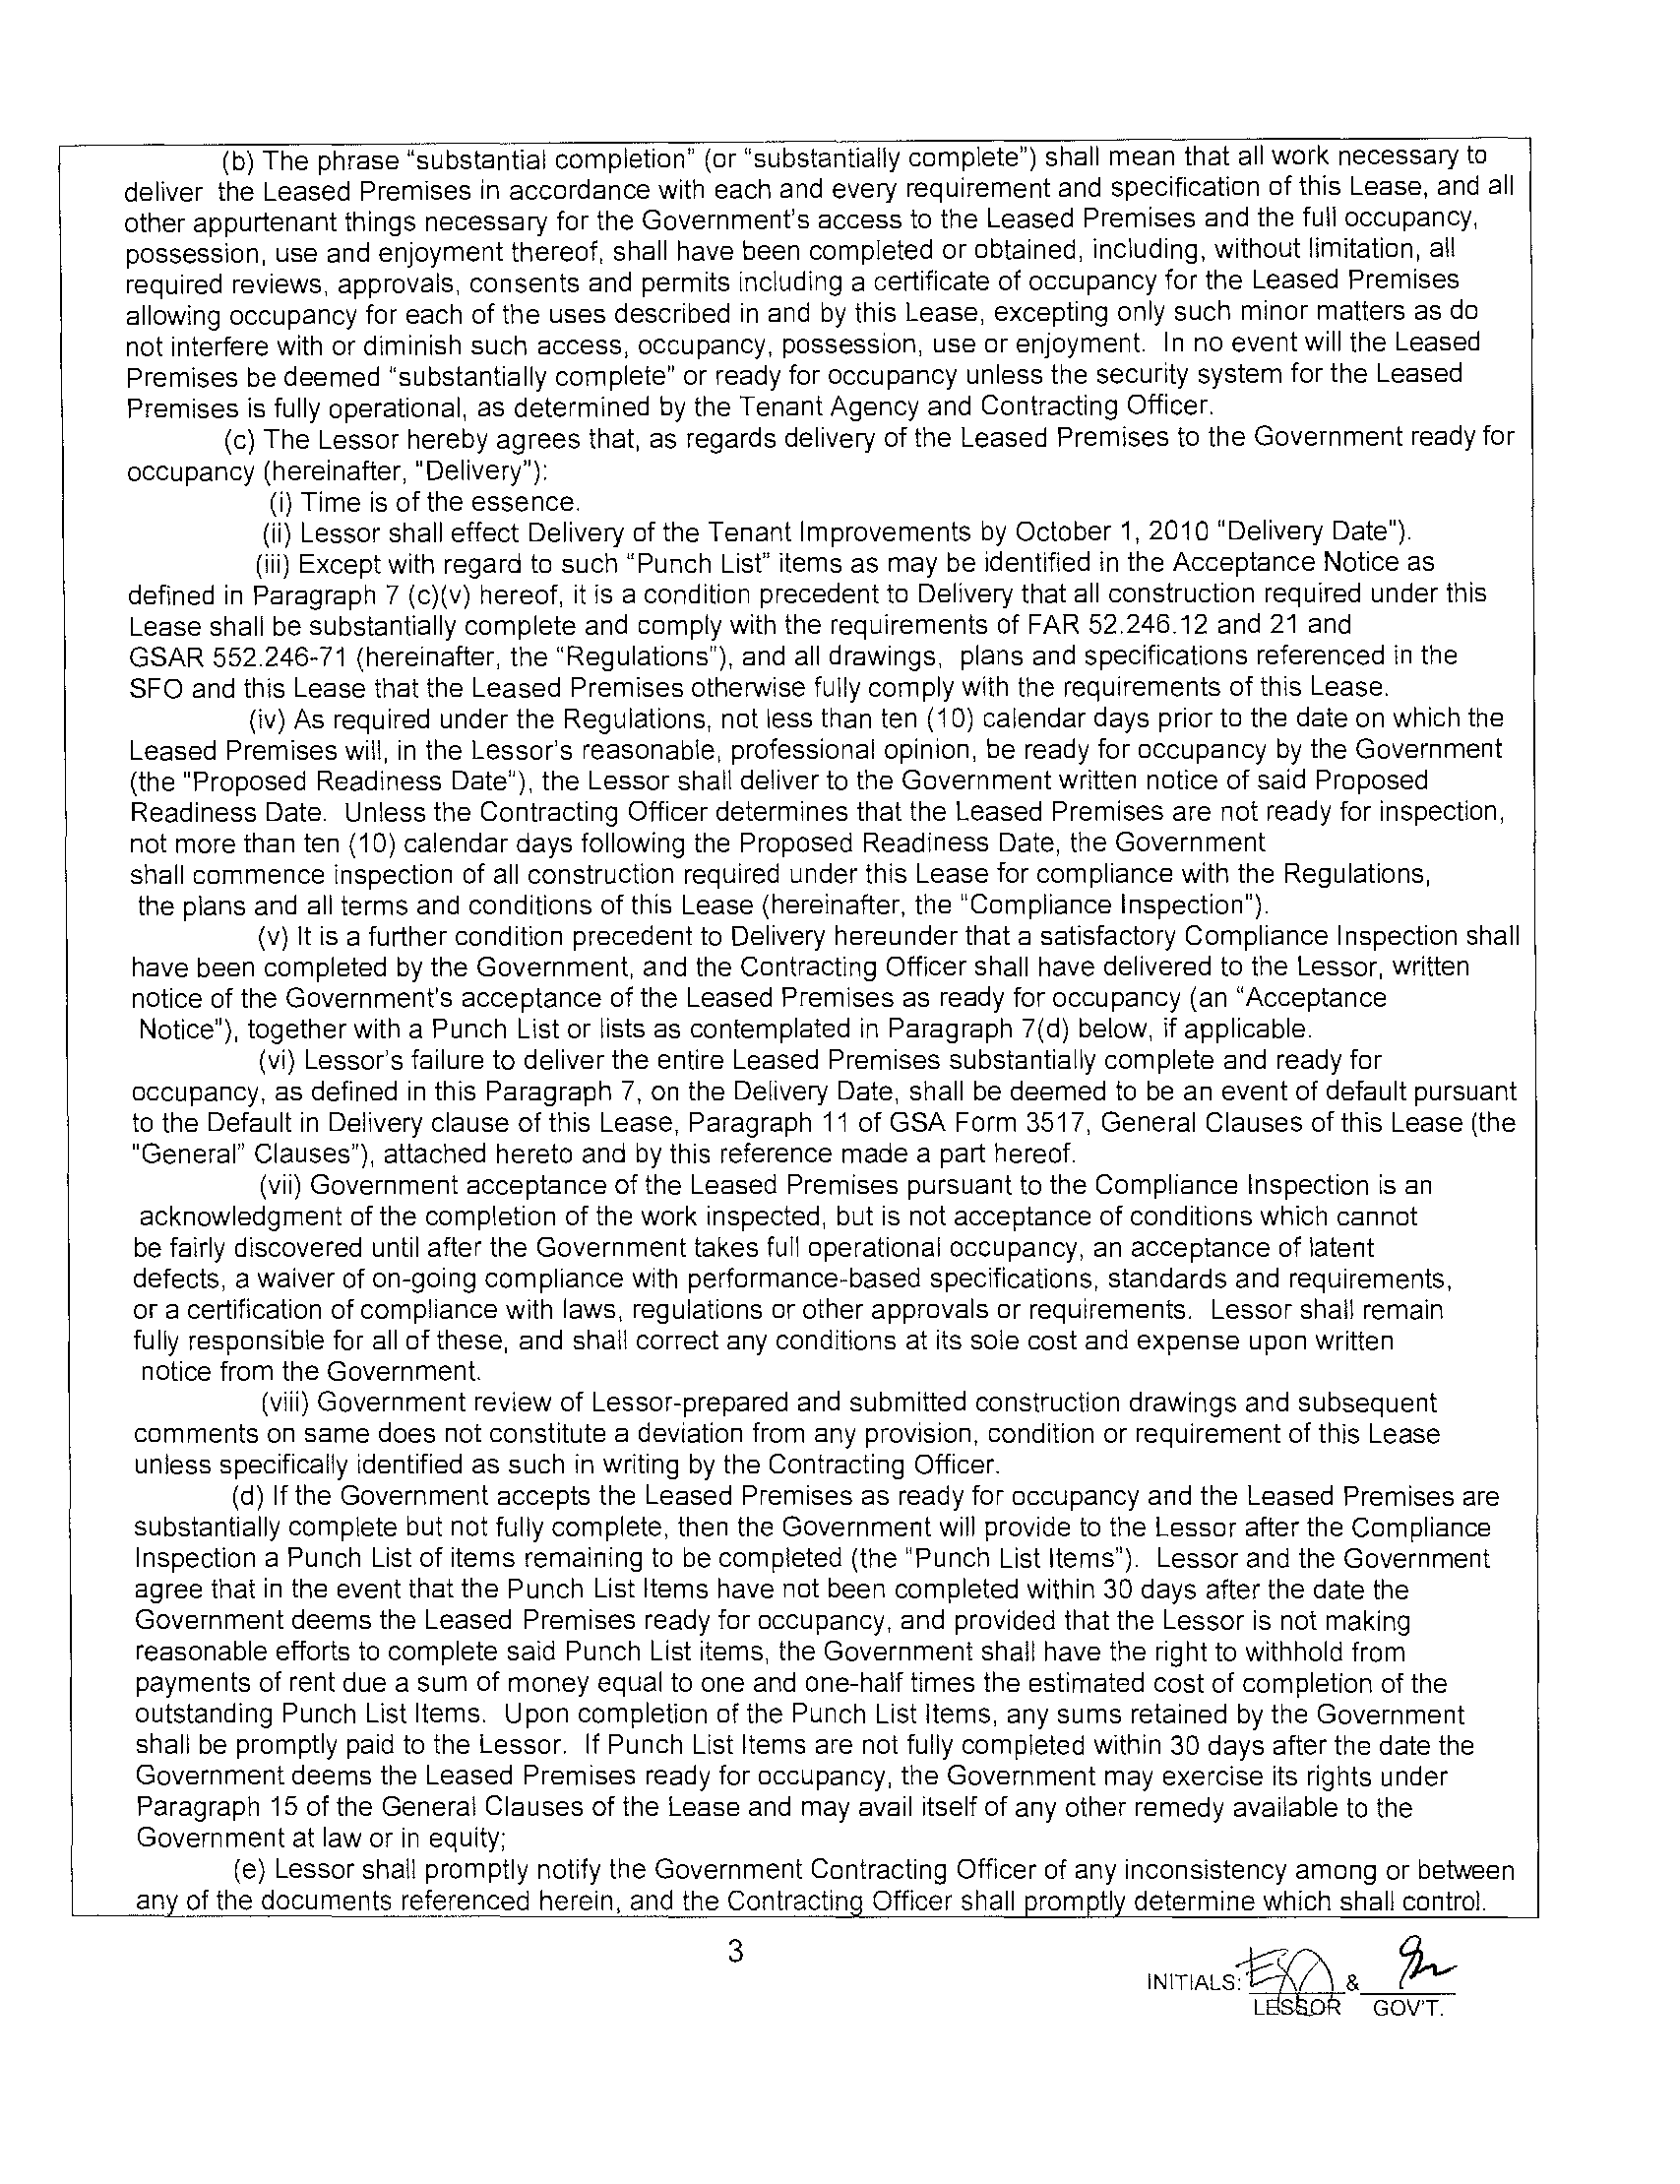handwritten: (1225, 1918, 1470, 1999)
